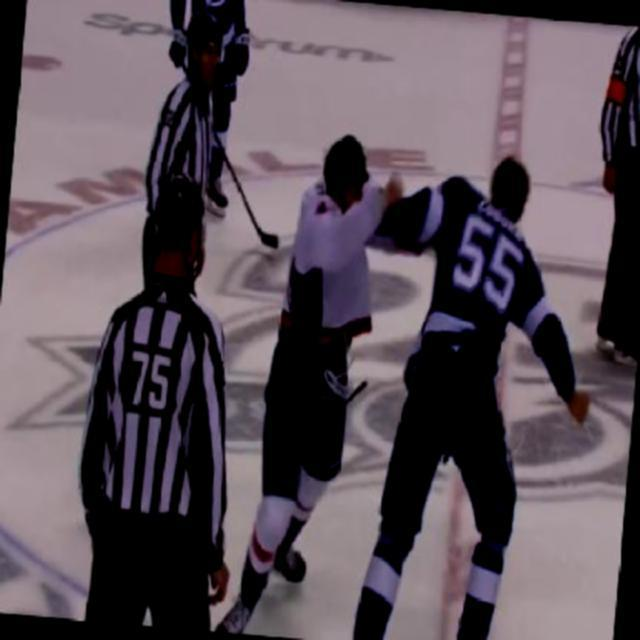fight: (243, 126, 599, 639)
non-fight: (62, 168, 262, 632), (132, 8, 231, 282), (578, 25, 638, 372)
